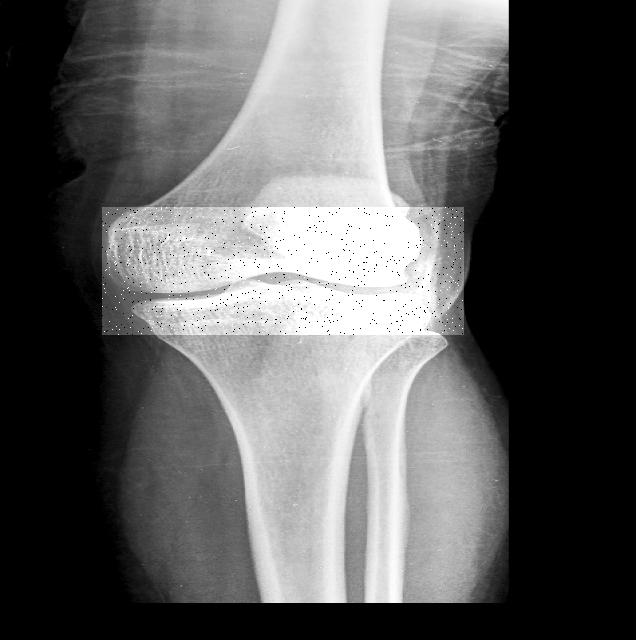normal: (102, 207, 464, 335)
